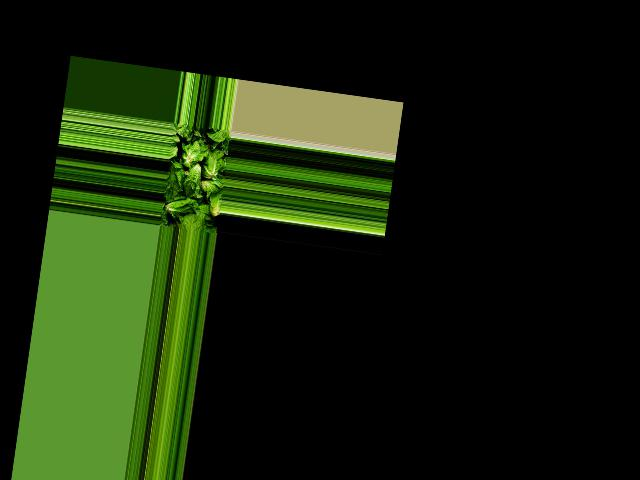lettuce: (205, 185, 223, 221)
